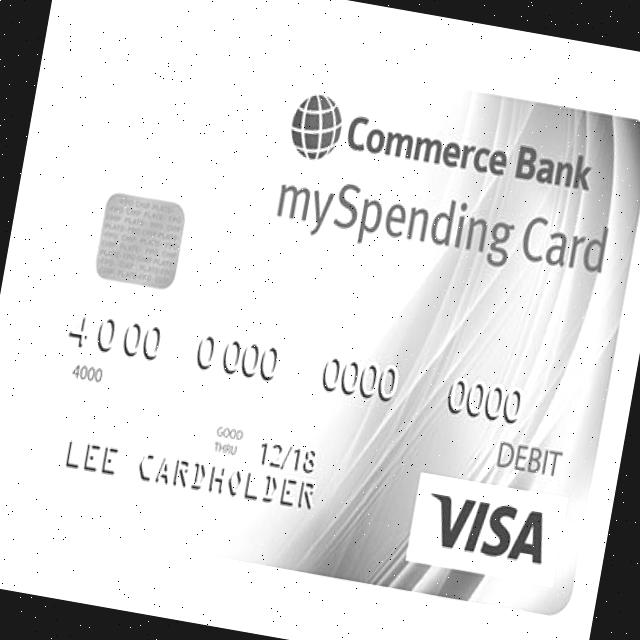card: (0, 4, 640, 626)
